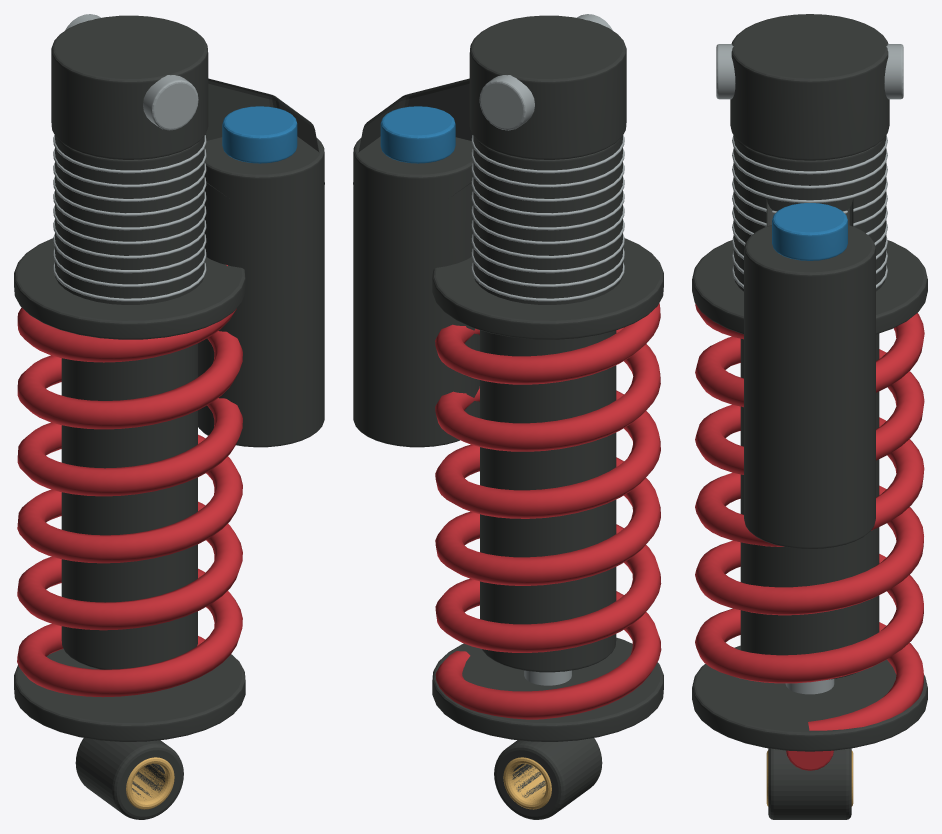
File: rockshox-vivid-coil-ultimate-d1--e4529192.glb
3 views of the same model, side by side, from view 1: azimuth 30°, elevation 25°; view 2: azimuth 150°, elevation 25°; view 3: azimuth 270°, elevation 25° (orthographic).
Visible parts, largest first — view 1: rockshox-vivid-coil-ultimate-d1--e4529192__link, rockshox-vivid-coil-ultimate-d1--e4529192__rebound, rockshox-vivid-coil-ultimate-d1--e4529192__bolts, rockshox-vivid-coil-ultimate-d1--e4529192__adjuster, rockshox-vivid-coil-ultimate-d1--e4529192__stanchions; view 2: rockshox-vivid-coil-ultimate-d1--e4529192__link, rockshox-vivid-coil-ultimate-d1--e4529192__rebound, rockshox-vivid-coil-ultimate-d1--e4529192__bolts, rockshox-vivid-coil-ultimate-d1--e4529192__adjuster, rockshox-vivid-coil-ultimate-d1--e4529192__stanchions; view 3: rockshox-vivid-coil-ultimate-d1--e4529192__link, rockshox-vivid-coil-ultimate-d1--e4529192__rebound, rockshox-vivid-coil-ultimate-d1--e4529192__bolts, rockshox-vivid-coil-ultimate-d1--e4529192__adjuster.
Part boxes in pixels (left/top/right/bottom): rockshox-vivid-coil-ultimate-d1--e4529192__link: left=14, top=15, right=324, bottom=819; rockshox-vivid-coil-ultimate-d1--e4529192__rebound: left=17, top=265, right=242, bottom=697; rockshox-vivid-coil-ultimate-d1--e4529192__bolts: left=53, top=14, right=206, bottom=301; rockshox-vivid-coil-ultimate-d1--e4529192__adjuster: left=222, top=106, right=297, bottom=163; rockshox-vivid-coil-ultimate-d1--e4529192__stanchions: left=126, top=757, right=174, bottom=809; rockshox-vivid-coil-ultimate-d1--e4529192__link: left=353, top=15, right=663, bottom=819; rockshox-vivid-coil-ultimate-d1--e4529192__rebound: left=435, top=303, right=661, bottom=719; rockshox-vivid-coil-ultimate-d1--e4529192__bolts: left=471, top=14, right=624, bottom=685; rockshox-vivid-coil-ultimate-d1--e4529192__adjuster: left=380, top=106, right=455, bottom=163; rockshox-vivid-coil-ultimate-d1--e4529192__stanchions: left=503, top=757, right=551, bottom=809; rockshox-vivid-coil-ultimate-d1--e4529192__link: left=692, top=14, right=927, bottom=819; rockshox-vivid-coil-ultimate-d1--e4529192__rebound: left=695, top=304, right=924, bottom=770; rockshox-vivid-coil-ultimate-d1--e4529192__bolts: left=716, top=44, right=903, bottom=694; rockshox-vivid-coil-ultimate-d1--e4529192__adjuster: left=772, top=203, right=847, bottom=260.
Size of the model in its own units: 0.097 by 0.245 by 0.068.
